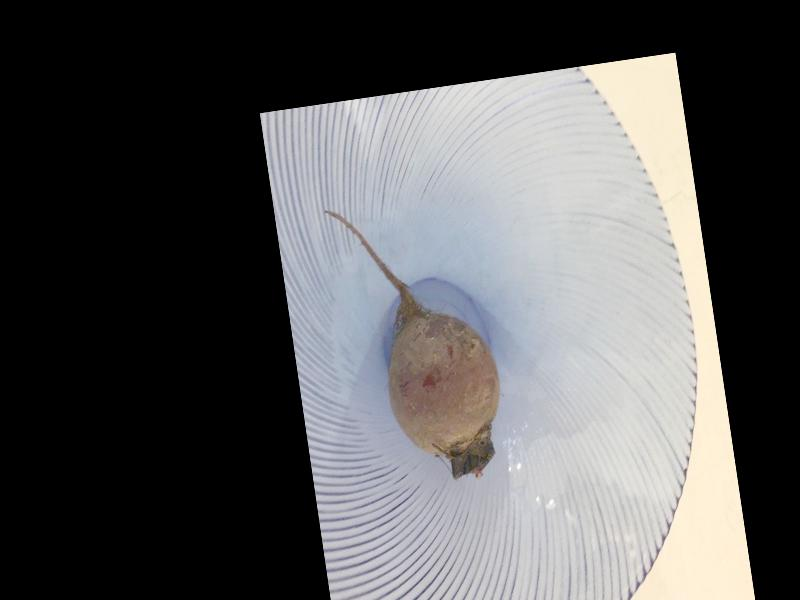Beet: (325, 189, 510, 492)
